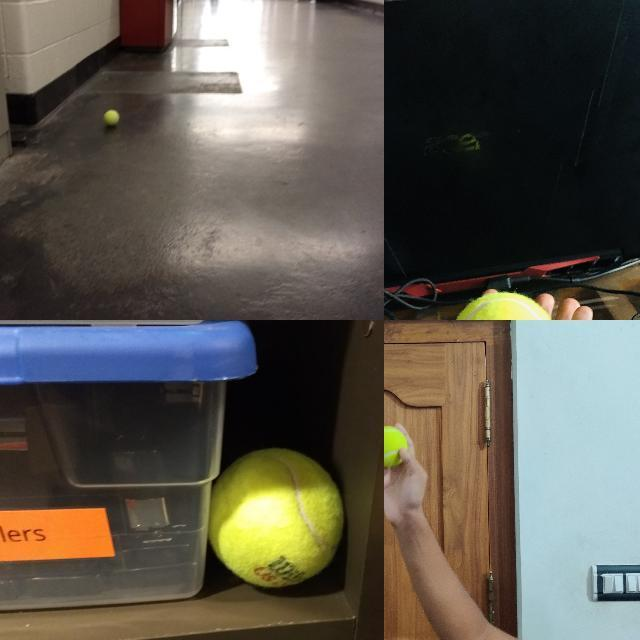tennis-ball: (222, 447, 345, 590), (447, 291, 559, 319), (384, 424, 409, 467), (103, 109, 120, 126)
